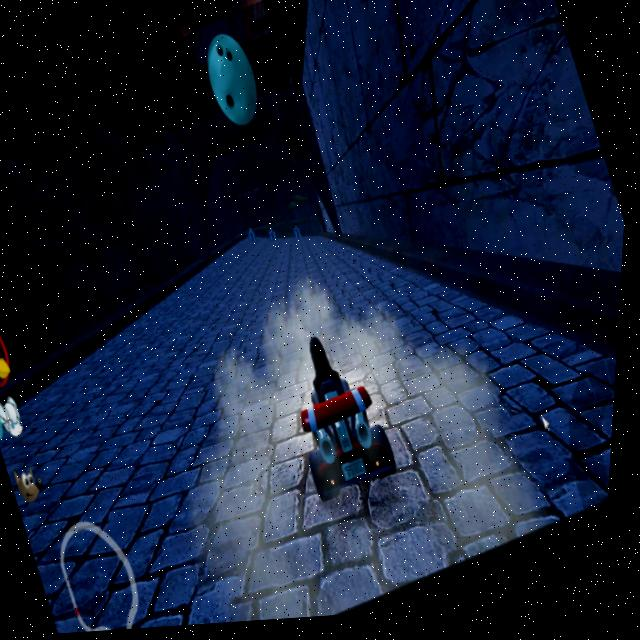bonus: (292, 224, 313, 252), (268, 228, 285, 250), (247, 229, 262, 247)
player_kart: (265, 312, 415, 518)
track: (136, 245, 339, 383)
